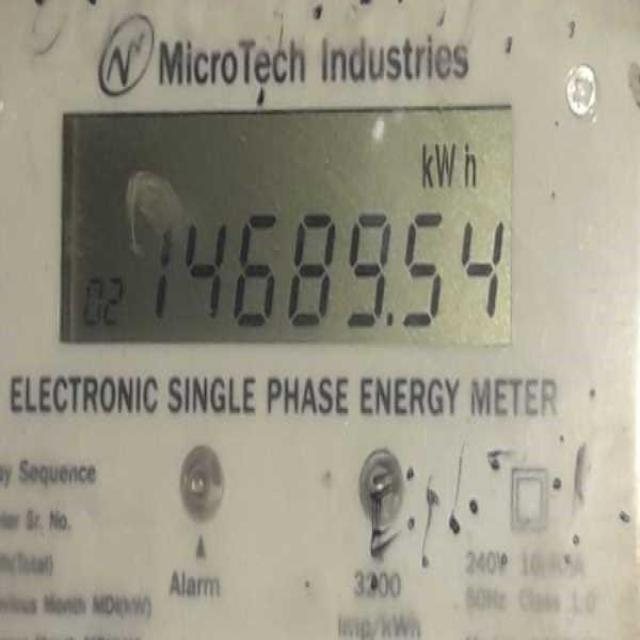1: (146, 206, 177, 326)
4: (450, 204, 510, 326), (177, 208, 229, 325)
5: (397, 203, 450, 330)
6: (229, 198, 279, 334)
8: (280, 196, 341, 334)
9: (342, 201, 387, 333)
Digital meter: (59, 114, 517, 339)
point: (385, 306, 404, 334)
